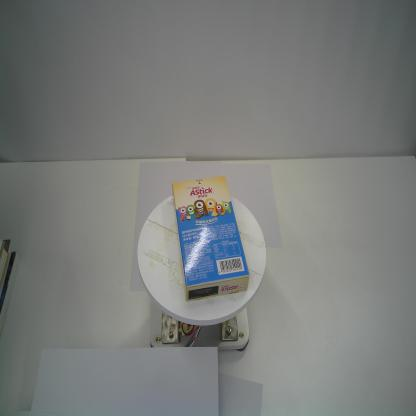Dessert: (171, 174, 251, 303)
